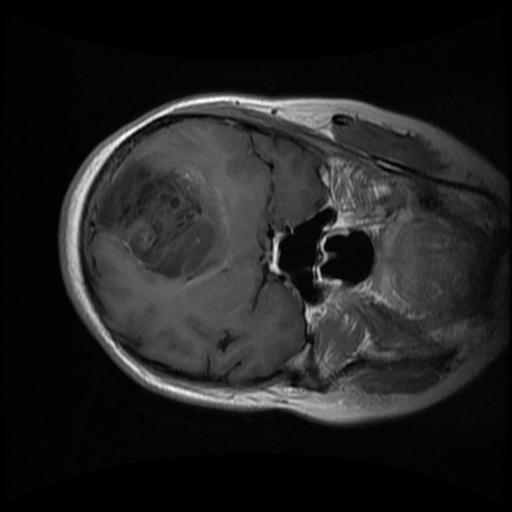glioma: (95, 155, 227, 284)
